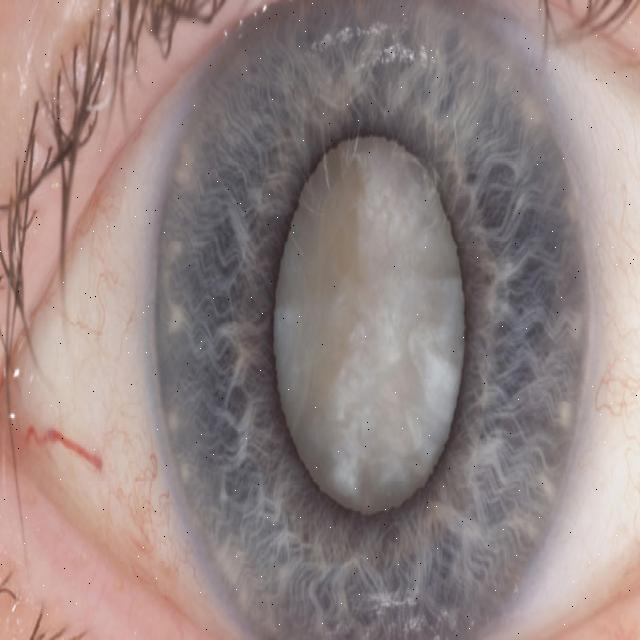Cataract: (150, 2, 586, 640)
